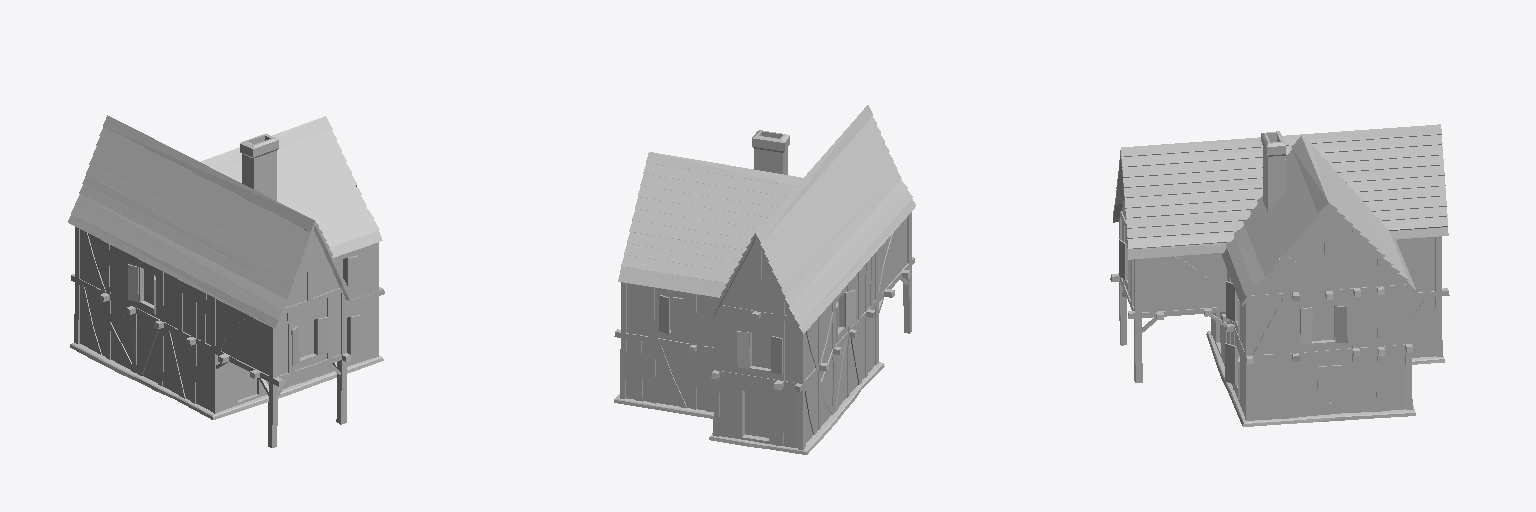
File: house1.obj
3 views of the same model, side by side, from view 1: azimuth 30°, elevation 25°; view 2: azimuth 150°, elevation 25°; view 3: azimuth 270°, elevation 25° (orthographic).
Parts seen in each view (by area): view 1: Mesh_Box291; view 2: Mesh_Box291; view 3: Mesh_Box291.
Part boxes in pixels (bbox=[...]): Mesh_Box291: bbox=[68, 115, 384, 447]; Mesh_Box291: bbox=[614, 105, 915, 454]; Mesh_Box291: bbox=[1110, 124, 1449, 426].
Size of the model in its own units: 150 by 151 by 196.